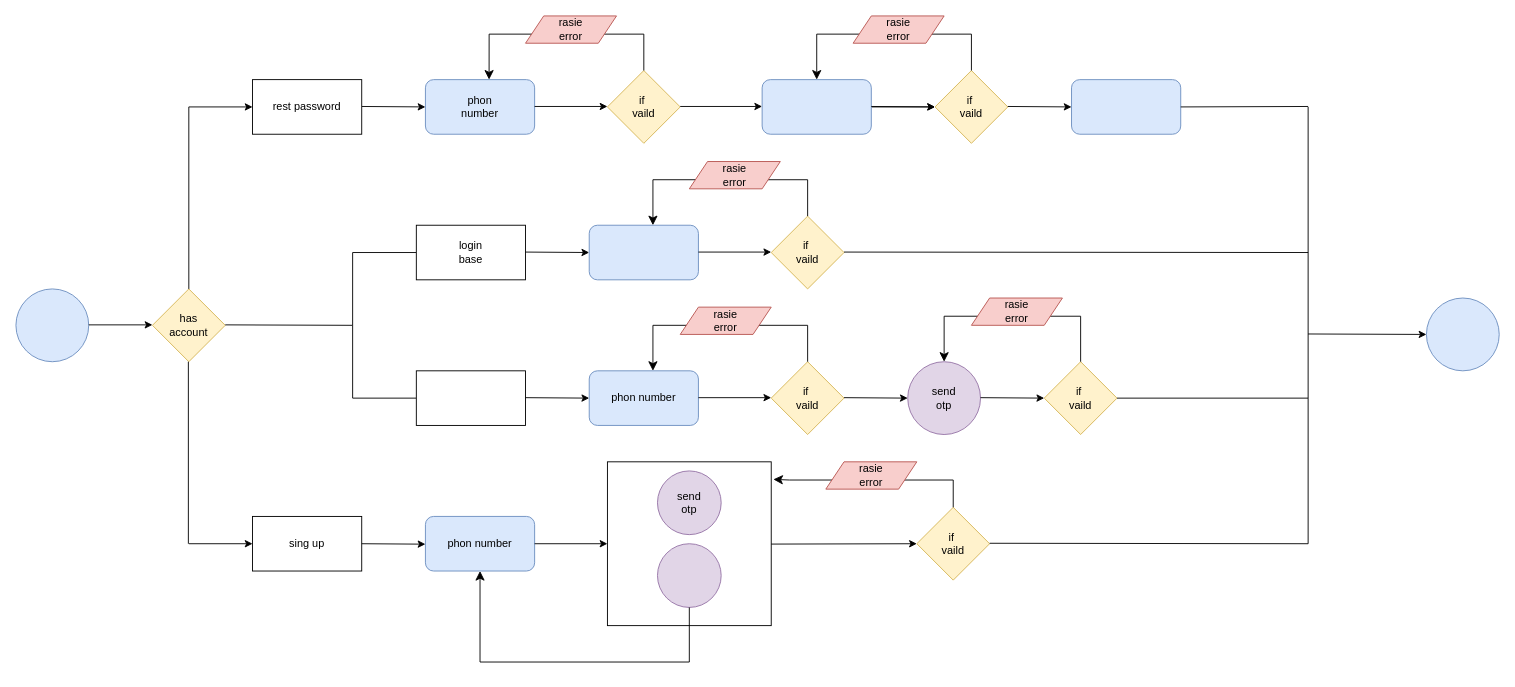
Image size: 1515x687. Some labels were removed from this diagram. Here are the shapes that lost their labels. From the top down, the centre of each, then its label:
the point at 816,106: new password
the point at 1126,106: assing new password
the point at 643,252: phon number and password
the point at 52,325: start
the point at 1462,334: user logged in
the point at 470,397: login otp
the point at 689,575: edit phone number
